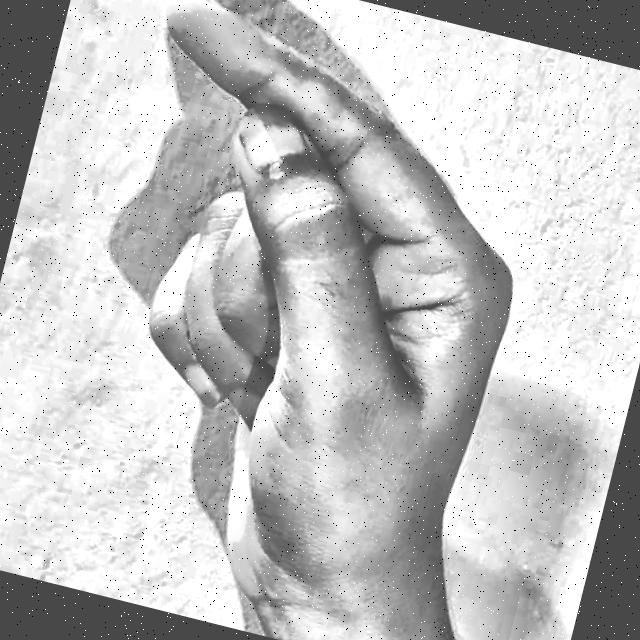Tha: (5, 0, 630, 640)
